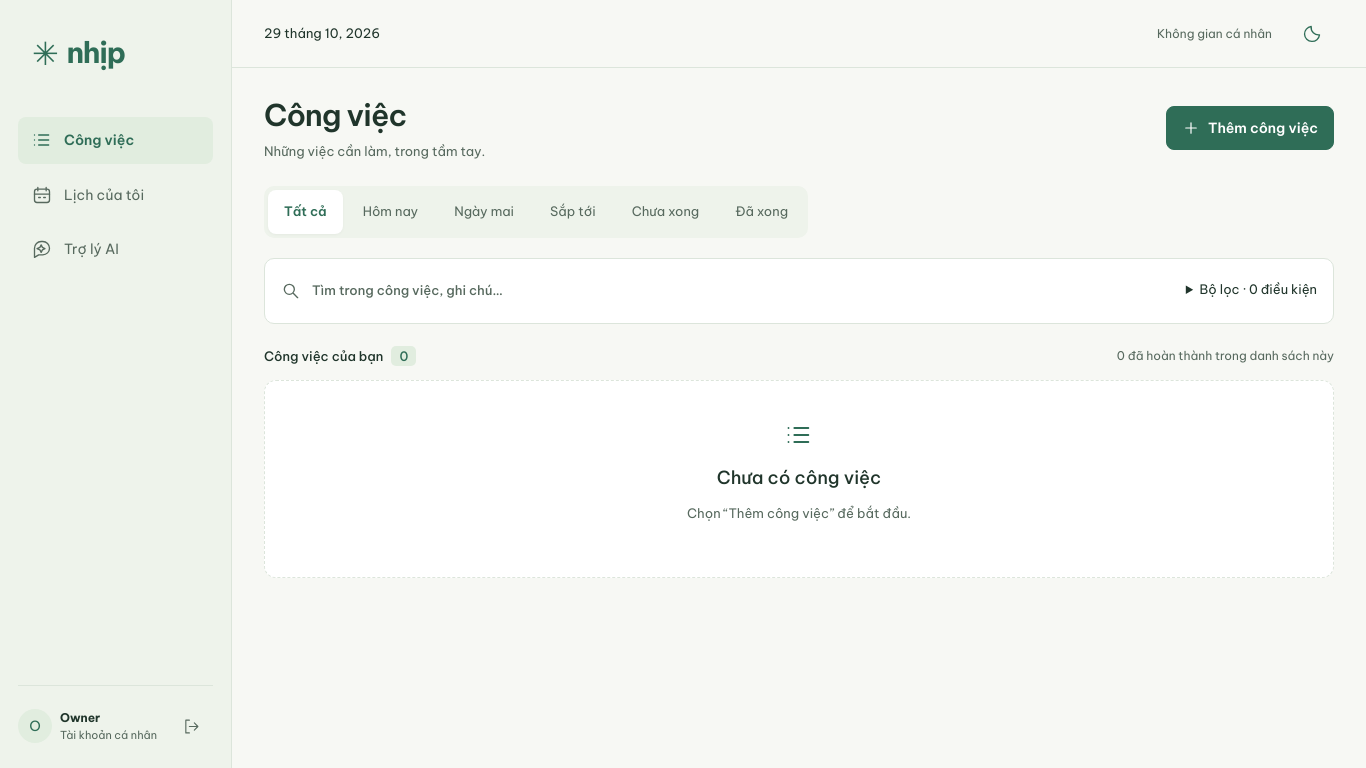
Test: logout failure keeps workspace usable and never pretends success
Expected: the text "Owner" is shown, [60, 710, 100, 725]
Step 1. Click the button named "Đăng xuất" → coordinates (191, 726), box [169, 704, 213, 748]
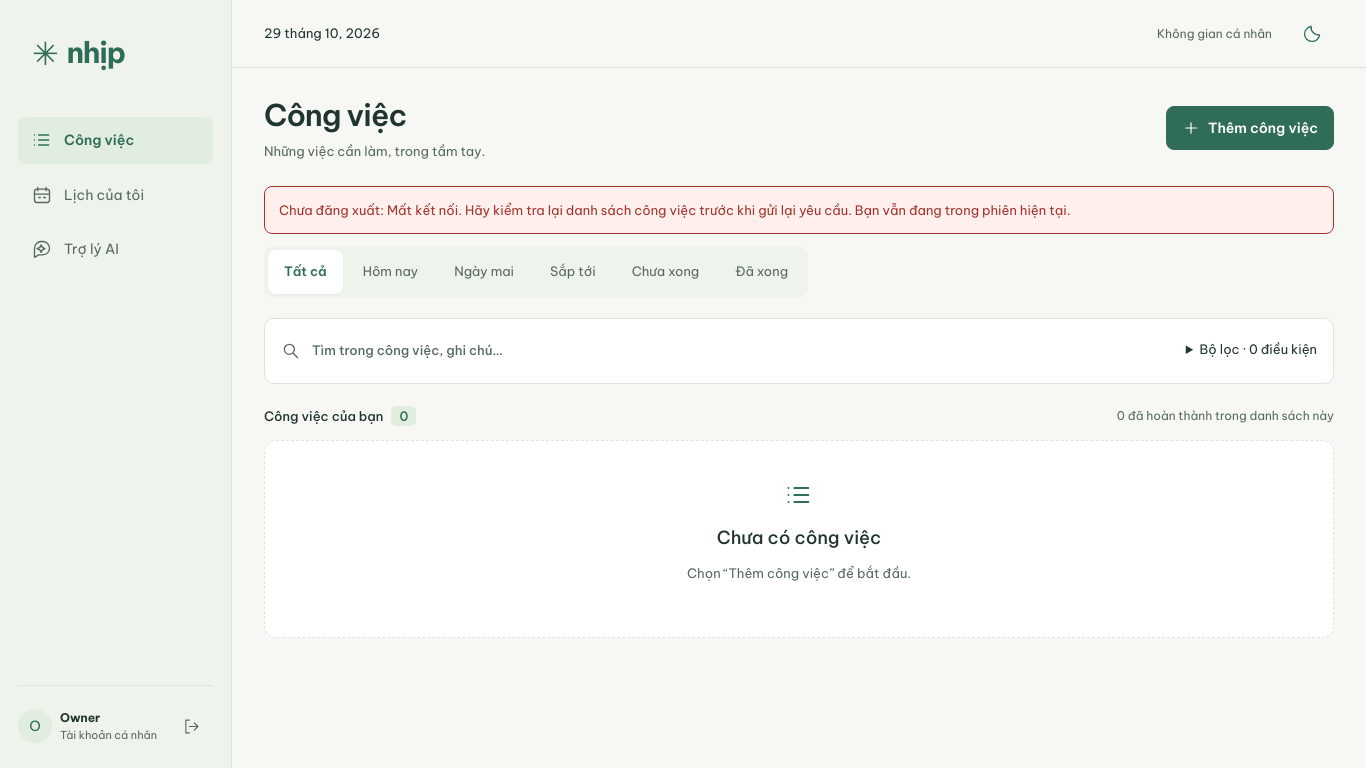
Expected: the button "Thêm công việc" is enabled, [1166, 106, 1334, 150]
Result: the message shows "Chưa đăng xuất" at [279, 202, 387, 218]
